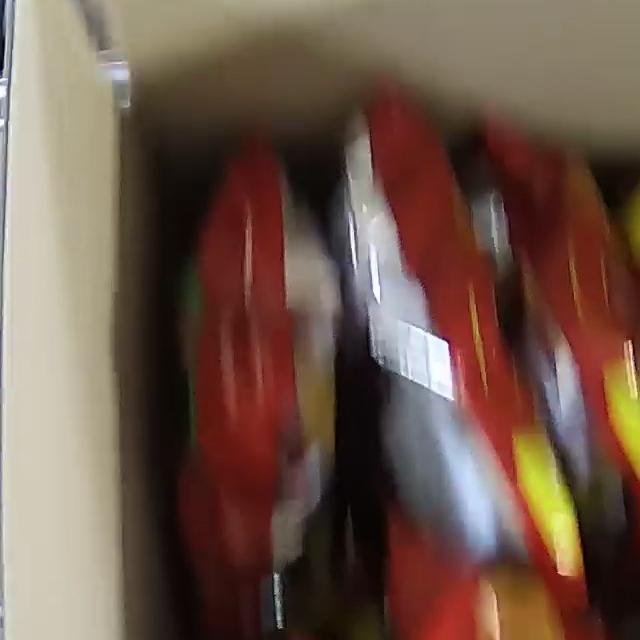masala: (167, 82, 640, 640)
